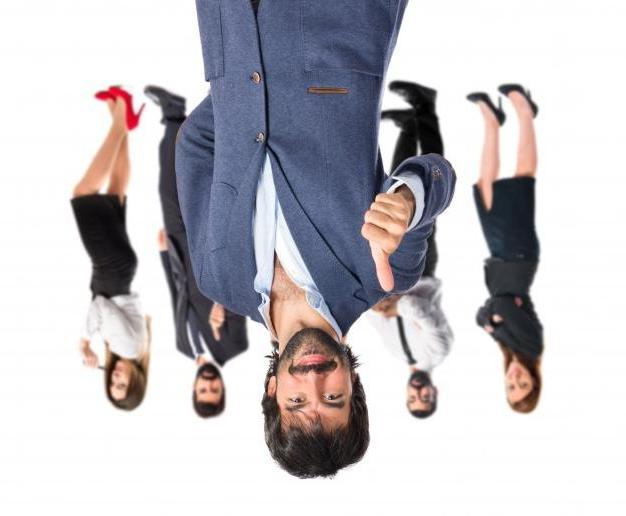thumbsdown: (361, 192, 410, 294)
